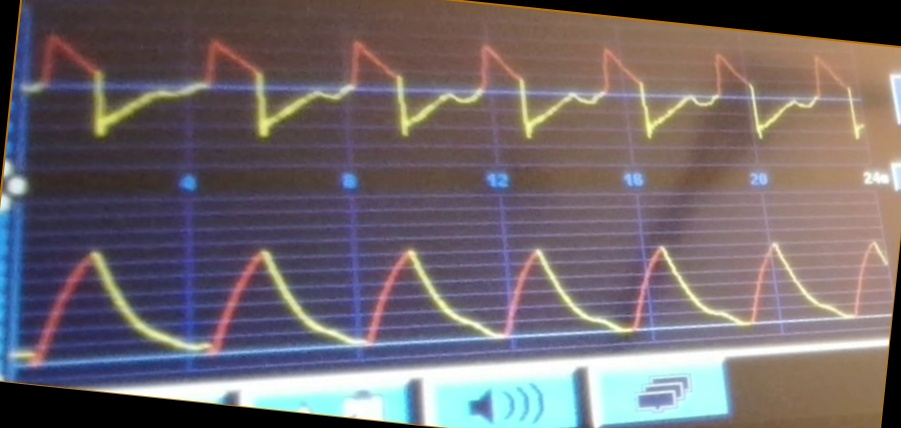Ineffective_effort Flow: (29, 32, 864, 156)
Ineffective_effort Volume: (27, 229, 887, 359)
